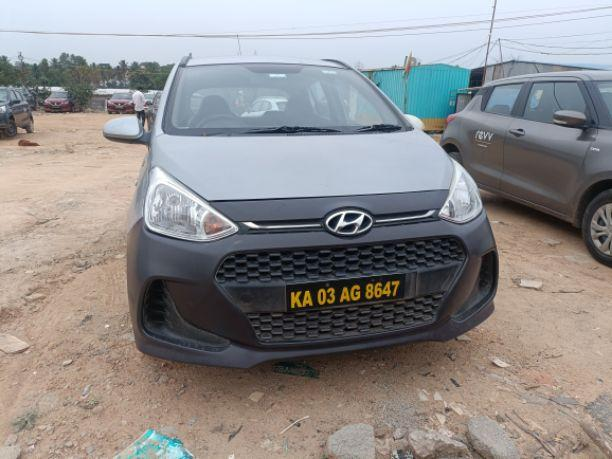license_plate: (284, 272, 406, 312)
